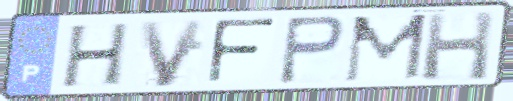F: (204, 16, 280, 87)
H: (419, 9, 497, 82), (58, 20, 134, 90)
M: (340, 11, 431, 85)
P: (275, 14, 348, 87)
V: (136, 17, 210, 90)
